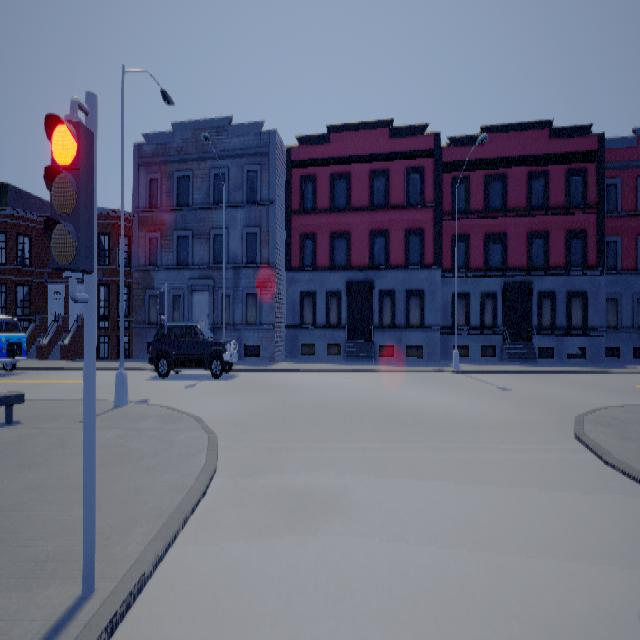red_light: (44, 95, 95, 302)
vehicle: (149, 318, 239, 378), (1, 313, 28, 371)
